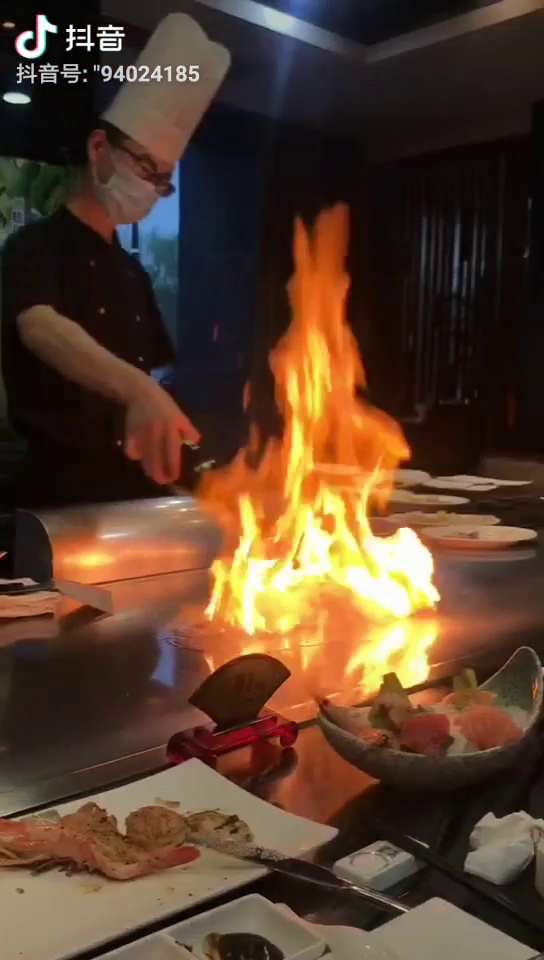fire: (263, 212, 416, 506), (185, 474, 437, 640)
